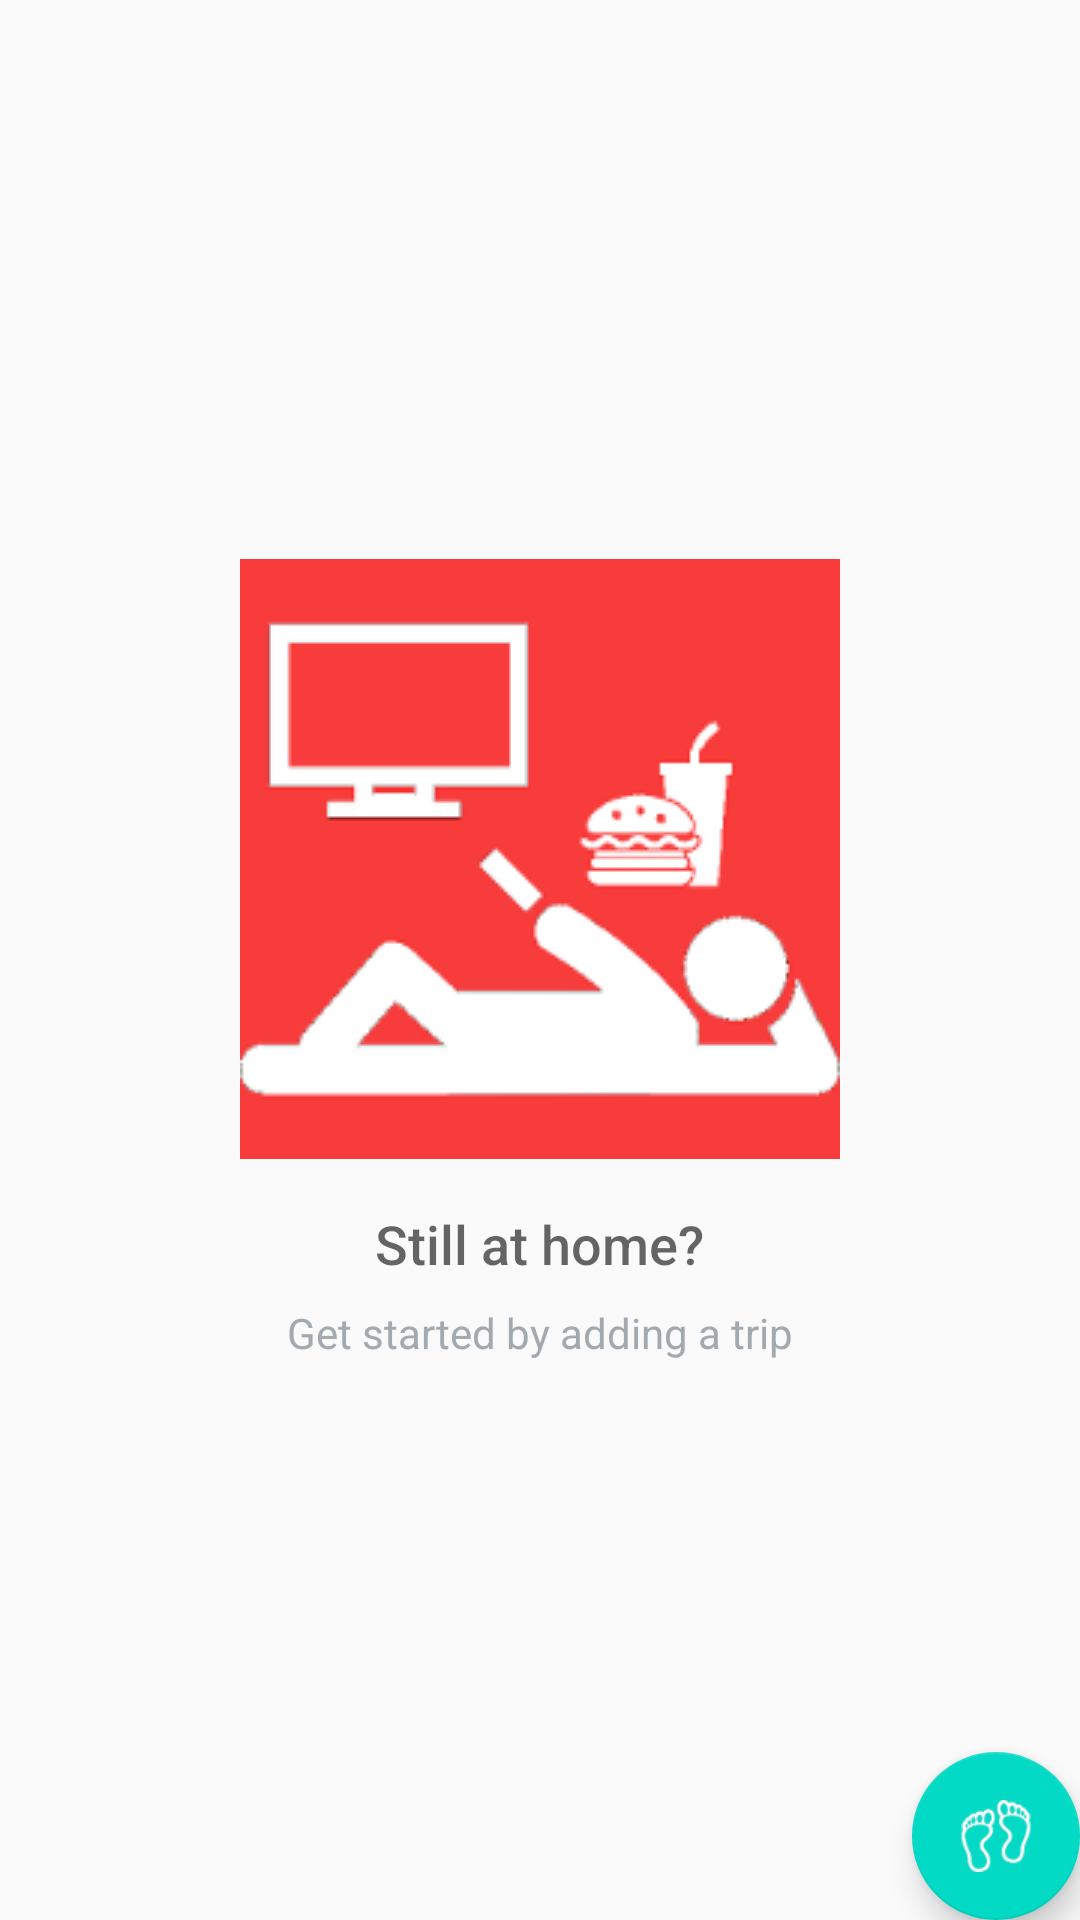

Screen size 1080×1920. Icon name, then its box in pixels as (x1, y1, x2, y2):
footprint: (912, 1752, 1080, 1920)
